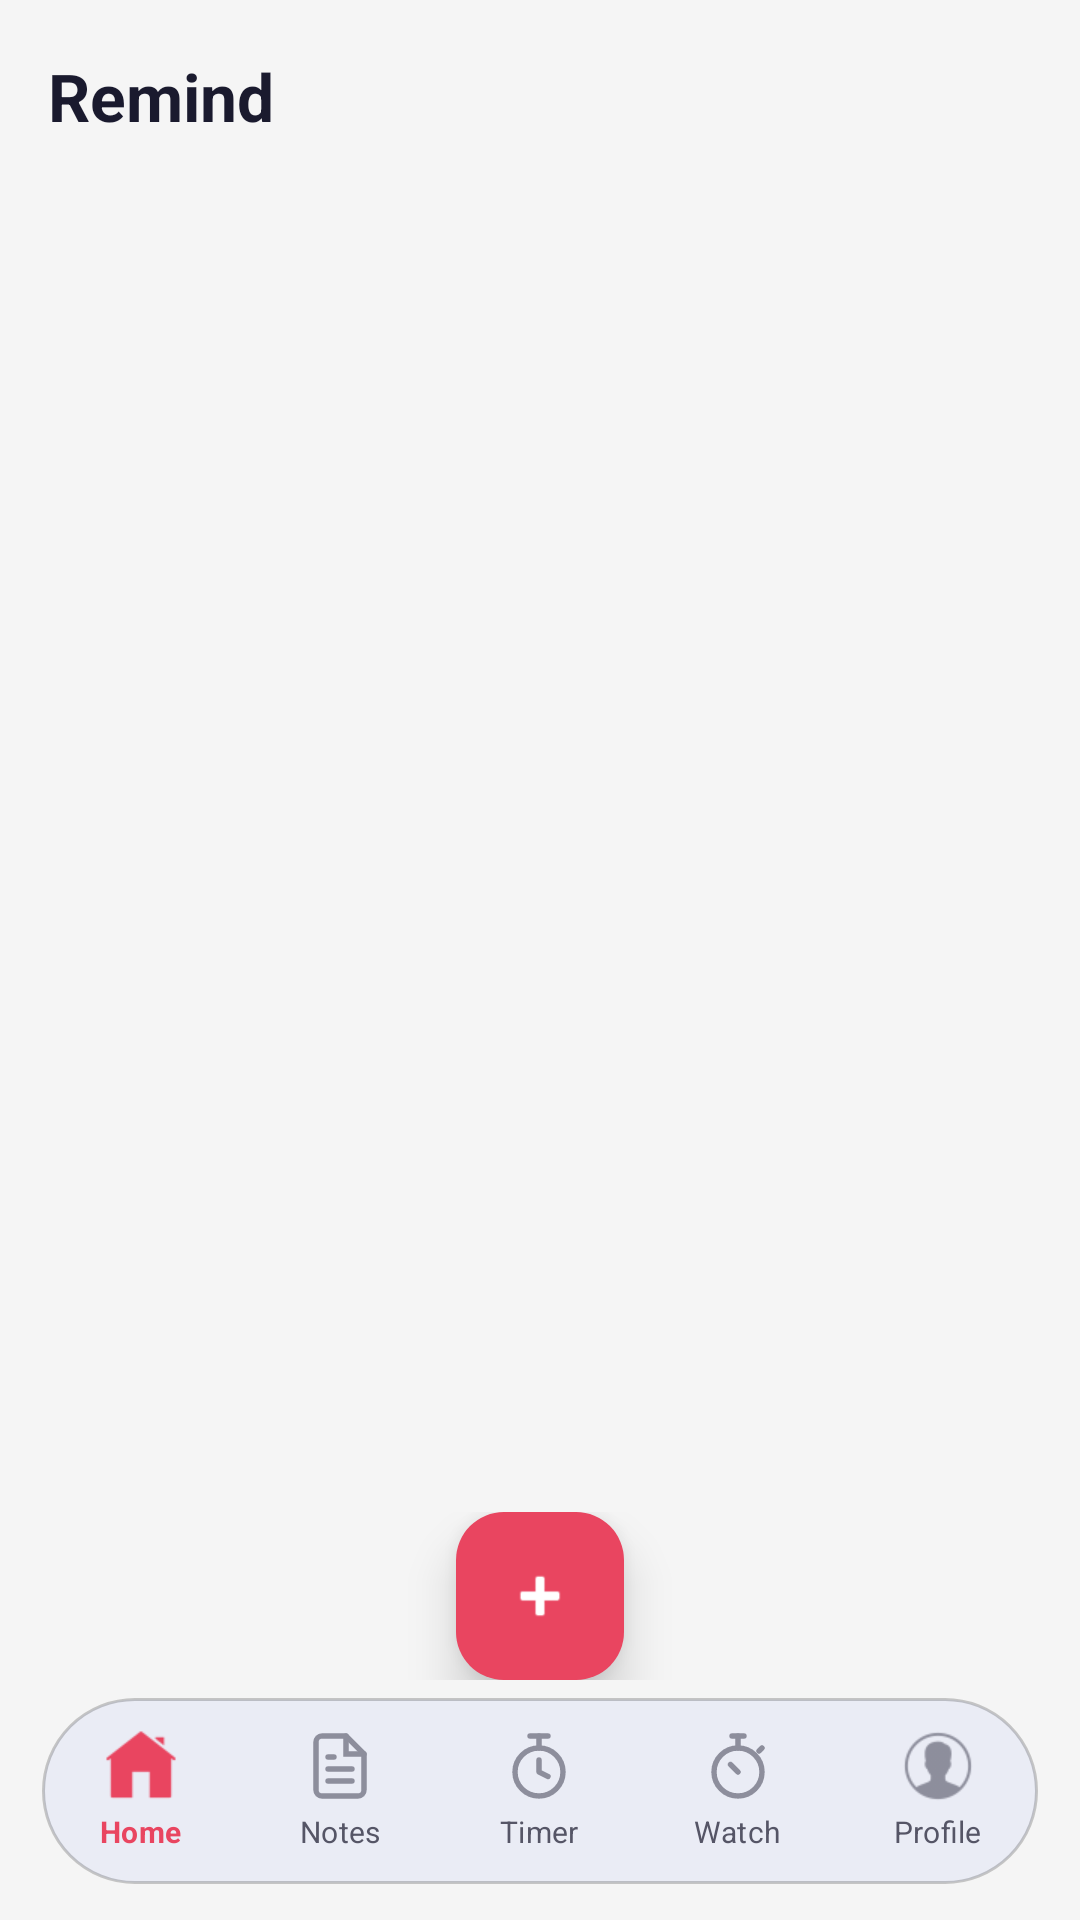

Named icons in this screenshot (1080×1920) and their centers, (x,y):
add: (540,1596)
